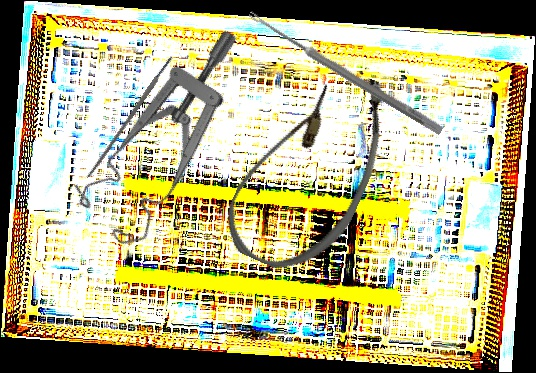Cannula: (213, 47, 408, 289)
Scalpel Handle: (85, 54, 176, 180)
Speculum: (42, 24, 303, 260)
Surgical Spoon: (246, 9, 445, 136)
